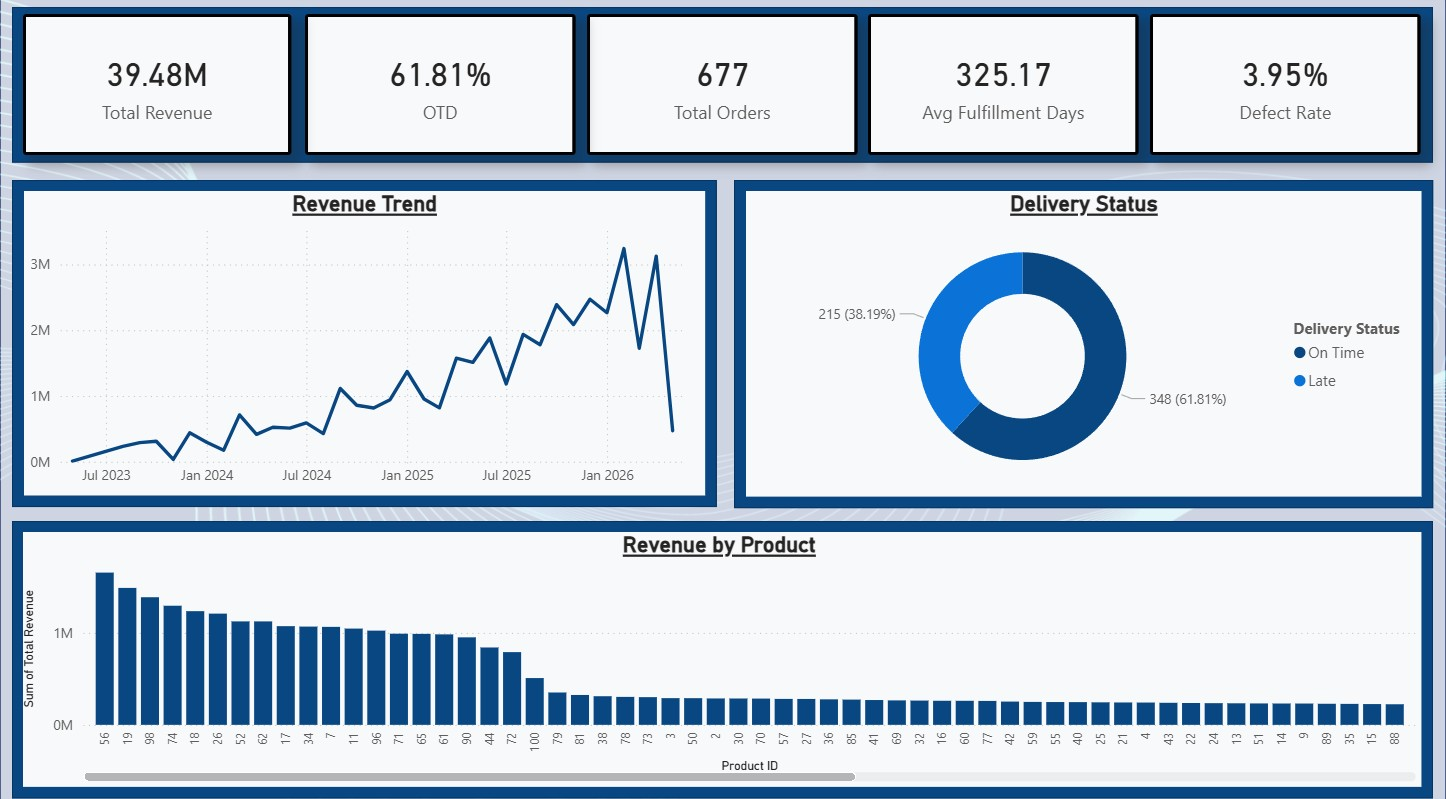

The dashboard page shown, as its layout file describes it:
{"tool":"powerbi","page":{"name":"Executive Overview","canvas":[1280,720],"ordinal":0},"visuals":[{"type":"shape","box":[10,11,1260,138],"z":1000,"group":"g4"},{"type":"group","id":"g1","title":"Group 1","box":[650,164,620,291],"z":1000},{"type":"shape","box":[10,466,1260,246],"z":1000,"group":"g3"},{"type":"card","fields":{"Values":["Sum(supply_chain_db vw_kpi_summary.Total Orders)"]},"box":[519.5,17,240,125],"z":2000,"group":"g4"},{"type":"shape","box":[650,164,620,291],"z":2000,"group":"g1"},{"type":"clusteredColumnChart","title":"Revenue by Product","fields":{"Y":["Sum(supply_chain_db vw_product_sales.Total Revenue)"],"Category":["supply_chain_db vw_product_sales.Product ID"]},"box":[20.1,476,1239.8,226],"z":2000,"group":"g3"},{"type":"card","fields":{"Values":["Sum(supply_chain_db vw_kpi_summary.OTD Rate)"]},"box":[269.8,17,240,125],"z":3000,"group":"g4"},{"type":"group","id":"g2","title":"Group 2","box":[10,164,625,290],"z":3000},{"type":"shape","box":[10,164,625,290],"z":3000,"group":"g2"},{"type":"card","fields":{"Values":["Sum(supply_chain_db vw_kpi_summary.Avg Fulfillment Days)"]},"box":[769.2,17,240,125],"z":4000,"group":"g4"},{"type":"group","id":"g3","title":"Group 4","box":[10,466,1260,246],"z":4000},{"type":"card","fields":{"Values":["Avg(supply_chain_db vw_supplier_quality.Avg Defect Rate)"]},"box":[1019,17,240,125],"z":5000,"group":"g4"},{"type":"card","fields":{"Values":["Sum(supply_chain_db vw_customer_sales.Total Spent)"]},"box":[20,17,238,125],"z":5500,"group":"g4"},{"type":"group","id":"g4","title":"Group 3","box":[10,11,1260,138],"z":5501},{"type":"donutChart","title":"Delivery Status","fields":{"Category":["supply_chain_db vw_operations_orders.Delivery Status"],"Y":["CountNonNull(supply_chain_db vw_operations_orders.Order ID)"]},"box":[660.3,174,599.3,270.9],"z":9000,"group":"g1"},{"type":"lineChart","title":"Revenue Trend","fields":{"Category":["supply_chain_db vw_revenue_trend.Required Date.Variation.Date Hierarchy.Year","supply_chain_db vw_revenue_trend.Required Date.Variation.Date Hierarchy.Month"],"Y":["Sum(supply_chain_db vw_revenue_trend.Revenue)"]},"box":[20.4,174,604.2,270],"z":10000,"group":"g2"}]}

Visuals, with their boxes in screenshot pixels (x1, y1, x2, y2), scaled from the page's 1280x720 canvas onto the 1446x799 screenshot:
shape: box(11, 12, 1435, 165)
"Group 1" group: box(734, 182, 1435, 505)
shape: box(11, 517, 1435, 790)
card - Sum(supply_chain_db vw_kpi_summary.Total Orders): box(587, 19, 858, 158)
shape: box(734, 182, 1435, 505)
"Revenue by Product" clusteredColumnChart: box(23, 528, 1423, 779)
card - Sum(supply_chain_db vw_kpi_summary.OTD Rate): box(305, 19, 576, 158)
"Group 2" group: box(11, 182, 717, 504)
shape: box(11, 182, 717, 504)
card - Sum(supply_chain_db vw_kpi_summary.Avg Fulfillment Days): box(869, 19, 1140, 158)
"Group 4" group: box(11, 517, 1435, 790)
card - Avg(supply_chain_db vw_supplier_quality.Avg Defect Rate): box(1151, 19, 1422, 158)
card - Sum(supply_chain_db vw_customer_sales.Total Spent): box(23, 19, 291, 158)
"Group 3" group: box(11, 12, 1435, 165)
"Delivery Status" donutChart: box(746, 193, 1423, 494)
"Revenue Trend" lineChart: box(23, 193, 706, 493)
